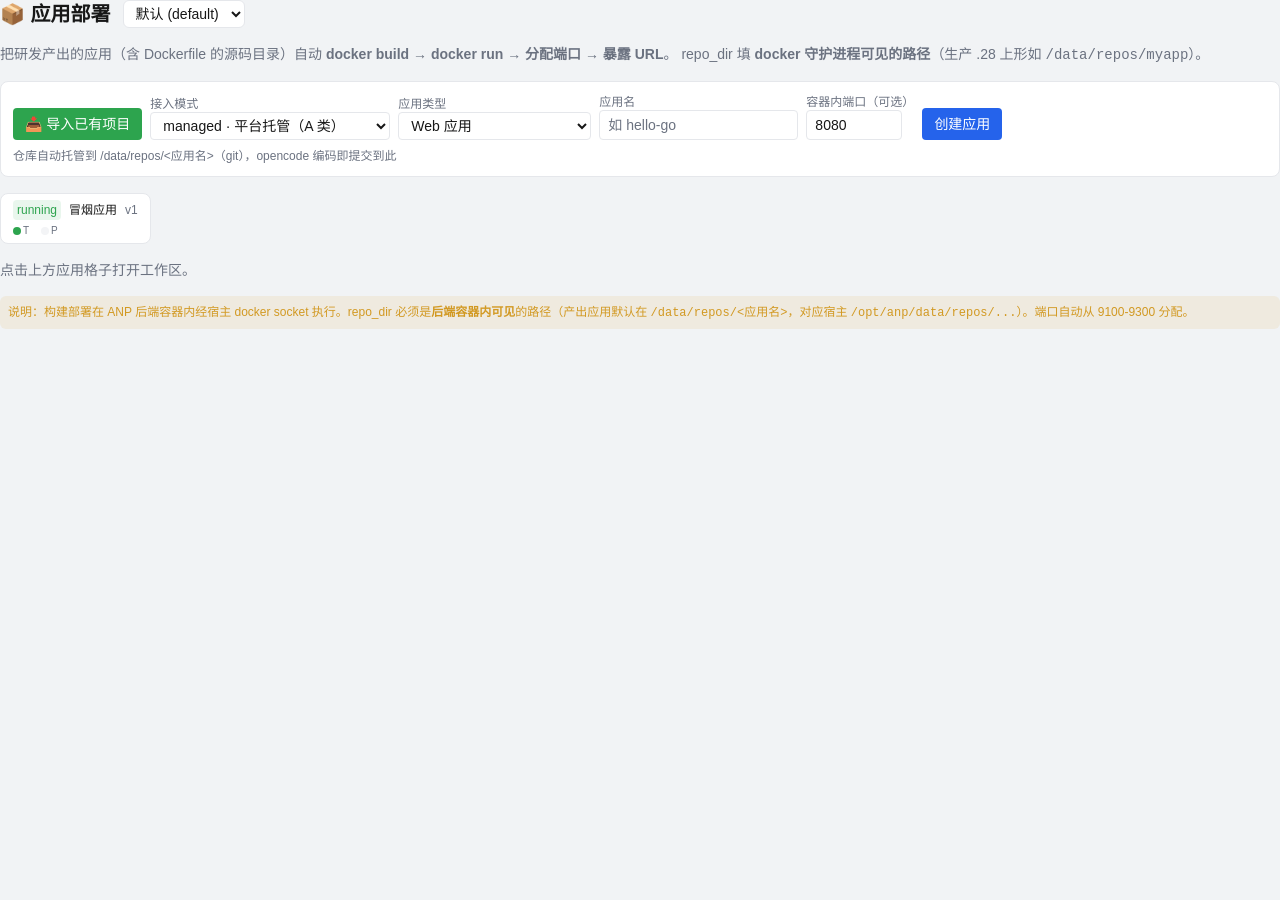
Scenario: ApplicationsPage tab 化壳 › 总览条渲染应用格；点击开 tab 显示面板；✕ 关闭回空态
This screenshot has width=1280, height=900.
Expected: the text "点击上方应用格子打开工作区。" is shown, [0,262,196,278]
Click the text "冒烟应用" at (93, 210), box [69,202,117,218]
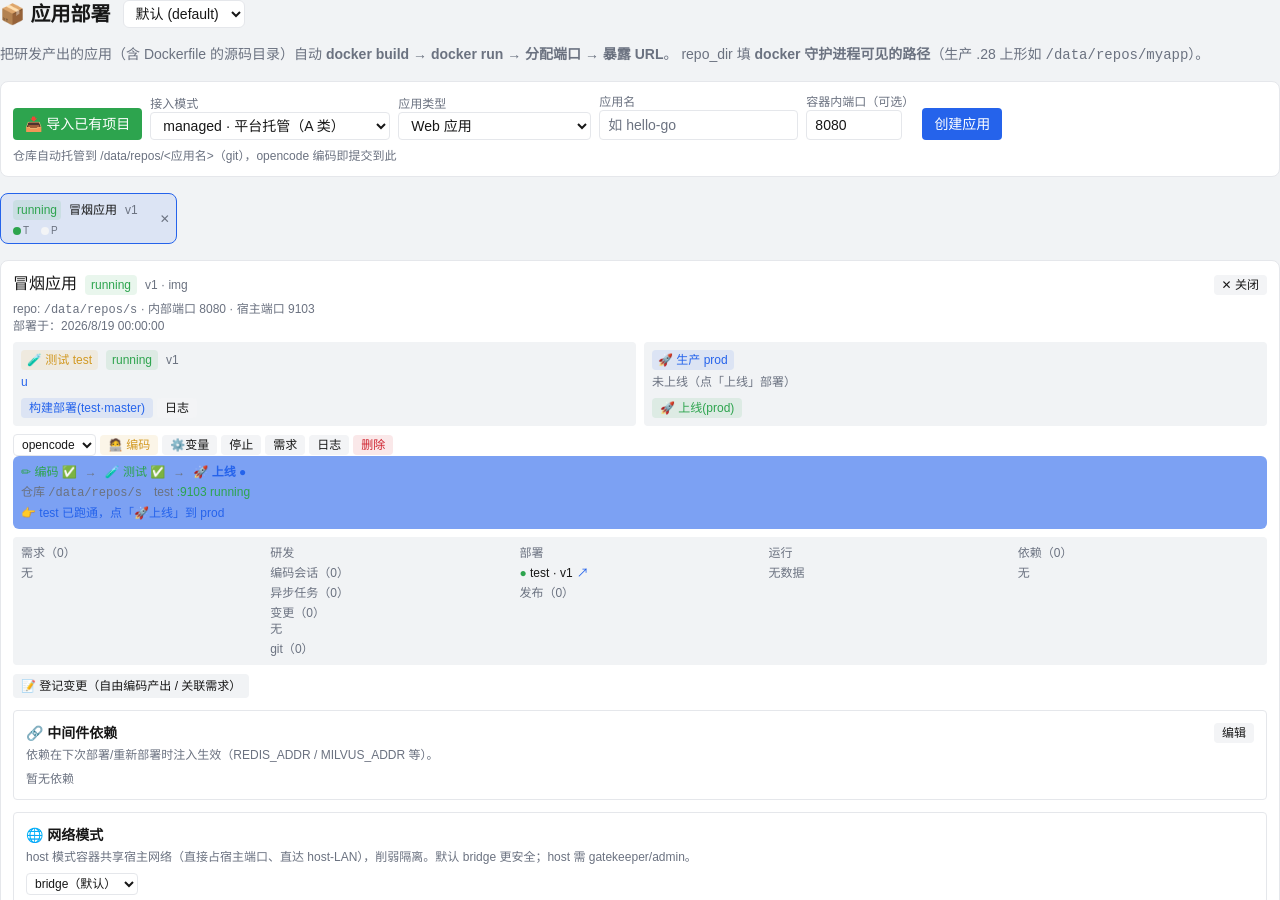
Expected: the element with test id "env-card-test" is shown, [13,342,636,426]
Expected: the button titled "关闭 tab" is shown
Click the button titled "关闭 tab" at (165, 219), box [154,211,176,227]
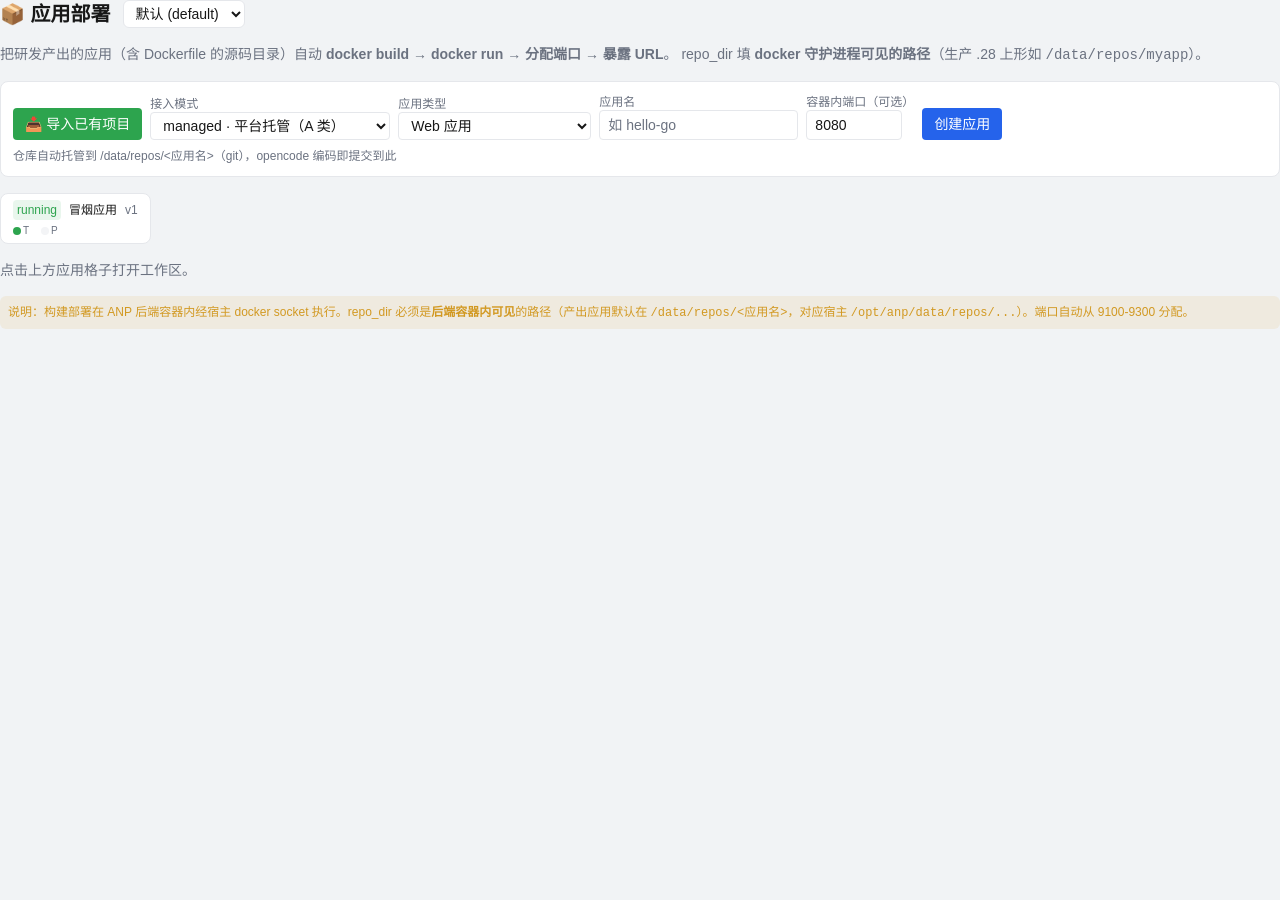
Expected: the element with test id "env-card-test" is gone
Expected: the text "点击上方应用格子打开工作区。" is shown, [0,262,196,278]
